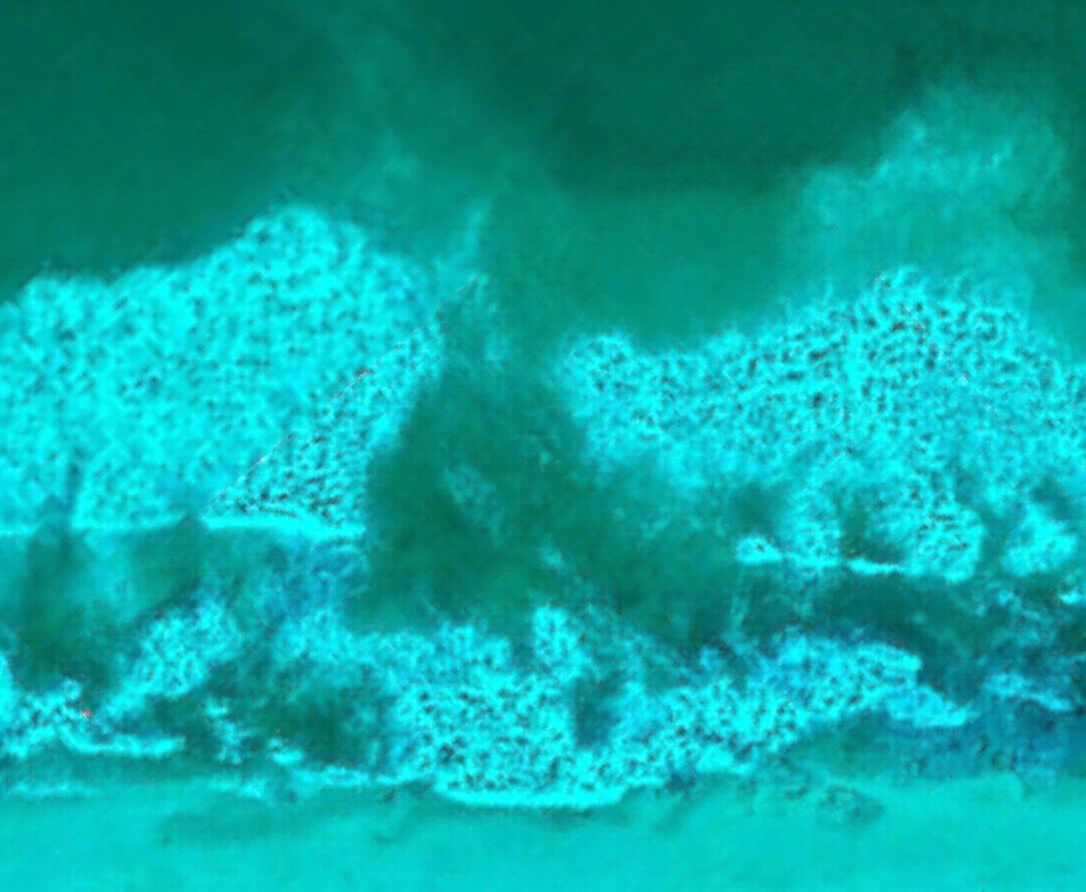rip_current: (323, 140, 615, 662)
